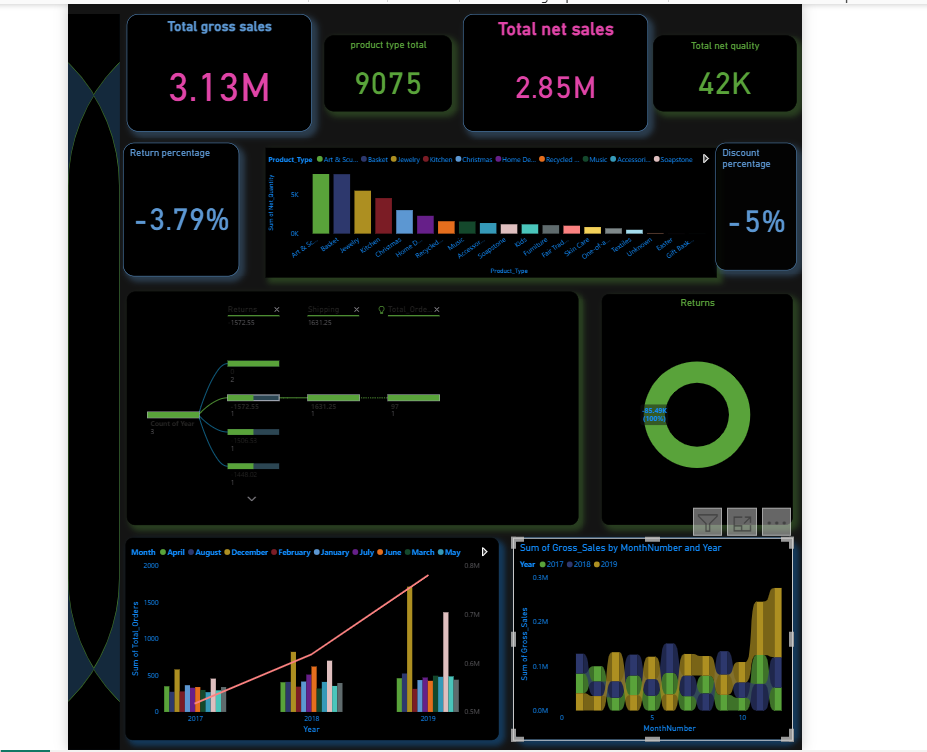

The page's visual inventory and layout, read from the dashboard file:
{"tool":"powerbi","page":{"name":"Page 1","canvas":[1280,1300],"ordinal":0},"visuals":[{"type":"shape","box":[0,17.5,90,1282.5],"z":0},{"type":"columnChart","fields":{"Category":["ProductSales.Product_Type"],"Y":["Sum(ProductSales.Net_Quantity)"],"Series":["ProductSales.Product_Type"]},"box":[326.7,248.3,786.4,226.5],"z":4000},{"type":"card","title":"Total net sales","fields":{"Values":["Sum(ProductSales.Total_Net_Sales)"]},"box":[687.5,17.5,322.5,205],"z":5000},{"type":"card","title":"Total net quality","fields":{"Values":["Sum(ProductSales.Net_Quantity)"]},"box":[1020,55,250,132.5],"z":6000},{"type":"card","title":"product type total ","fields":{"Values":["CountNonNull(ProductSales.Product_Type)"]},"box":[447.5,55,222.5,132.5],"z":7000},{"type":"lineClusteredColumnComboChart","title":" Total Orders and  Total Sales by  Month,  and Year","fields":{"Category":["SummarySales.Year"],"Y":["Sum(SummarySales.Total_Orders)"],"Y2":["Sum(SummarySales.Total_Sales)"],"Series":["SummarySales.Month"]},"box":[100,930,650,352.5],"z":8000},{"type":"donutChart","title":"Returns","fields":{"Y":["Sum(SummarySales.Returns)"]},"box":[930,505,332.5,402.5],"z":9000},{"type":"decompositionTreeVisual","fields":{"Analyze":["Count(SummarySales.Year)"],"ExplainBy":["SummarySales.Returns","SummarySales.Shipping","SummarySales.Total_Orders"]},"box":[102.5,500,787.5,407.5],"z":10000},{"type":"ribbonChart","fields":{"Category":["SummarySales.MonthNumber"],"Series":["SummarySales.Year"],"Y":["Sum(SummarySales.Gross_Sales)"]},"box":[775,930,487.5,352.5],"z":11000},{"type":"card","title":"Total gross sales","fields":{"Values":["Sum(ProductSales.Gross_Sales)"]},"box":[102.5,17.5,322.5,205],"z":13000},{"type":"card","title":"Discount  percentage","fields":{"Values":["ProductSales.TOTAL DICUNT PRT"]},"box":[1130.5,248.3,141.6,222.2],"z":14000},{"type":"card","title":"Return percentage","fields":{"Values":["ProductSales.TOTAL RETURN PRT"]},"box":[95.8,241.8,202.6,233.1],"z":15000}]}

Visuals, with their boxes on the page's 1280x1300 design canvas (x1, y1, x2, y2). These are canvas units, not pixel positions in the 927x752 screenshot, which may show the page scaled, cropped or inside an application window:
shape: 0 18 90 1300
columnChart - ProductSales.Product_Type x Sum(ProductSales.Net_Quantity): 327 248 1113 475
"Total net sales" card: 688 18 1010 222
"Total net quality" card: 1020 55 1270 188
"product type total " card: 448 55 670 188
" Total Orders and  Total Sales by  Month,  and Year" lineClusteredColumnComboChart: 100 930 750 1282
"Returns" donutChart: 930 505 1262 908
decompositionTreeVisual - Count(SummarySales.Year) x SummarySales.Returns: 102 500 890 908
ribbonChart - SummarySales.MonthNumber x SummarySales.Year: 775 930 1262 1282
"Total gross sales" card: 102 18 425 222
"Discount  percentage" card: 1130 248 1272 470
"Return percentage" card: 96 242 298 475
